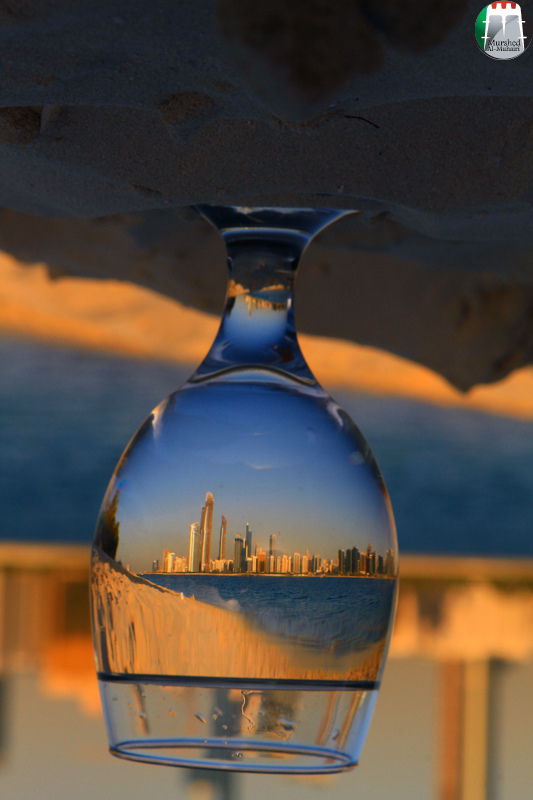glass of water: (89, 158, 403, 782)
